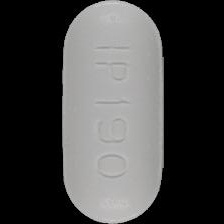68387-800: (0, 0, 224, 224)
